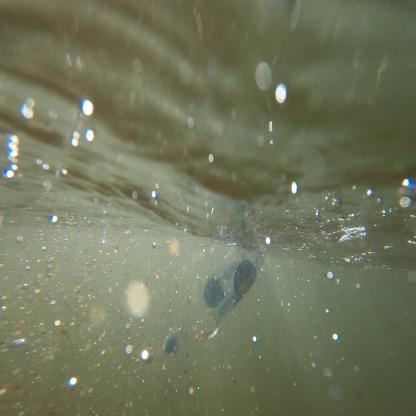Rác: (159, 191, 275, 388)
